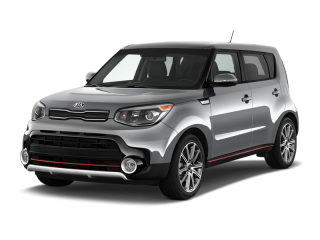car: (4, 35, 308, 210)
